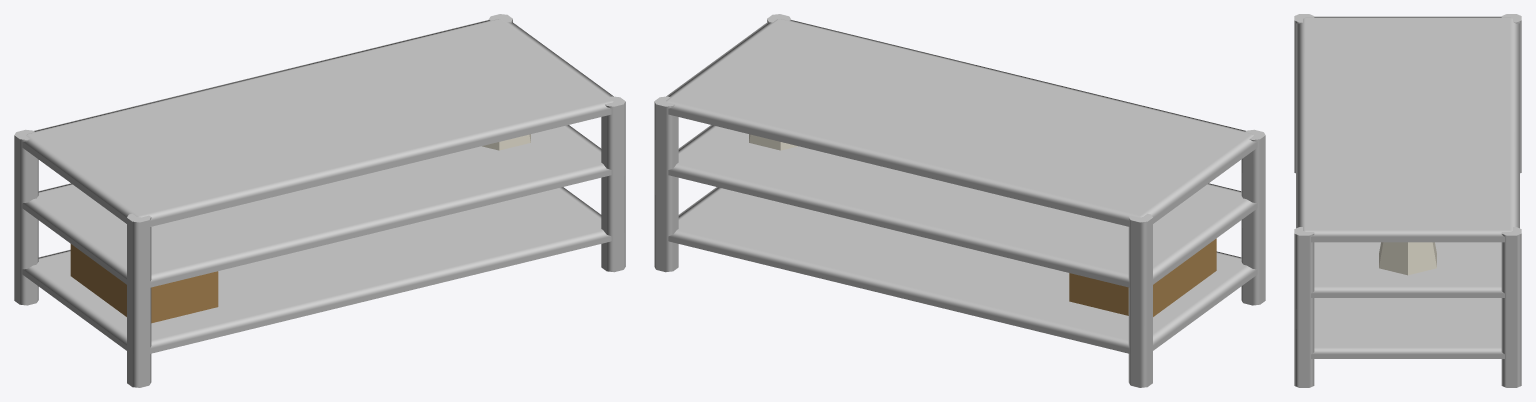
The model's file is shelf.obj.
3 renders of one model, left to right at view 1: azimuth 30°, elevation 25°; view 2: azimuth 150°, elevation 25°; view 3: azimuth 270°, elevation 25°, orthographic. The views are drawn at different scales.
Visible parts, largest first — view 1: shelf_board_3, shelf_board_2, shelf_board_1, stored_cloth_unchanged, upright_1, upright_3, upright_2; view 2: shelf_board_3, shelf_board_2, shelf_board_1, upright_2, upright_4, stored_cloth_unchanged, upright_1; view 3: shelf_board_3, shelf_board_1, shelf_board_2, upright_3, upright_4, stored_jar_unchanged, upright_1, upright_2.
Boxes of the visible parts, x1,y1,x2,y2 form: shelf_board_3: (22, 19, 613, 226); shelf_board_2: (22, 125, 611, 287); shelf_board_1: (22, 187, 611, 353); stored_cloth_unchanged: (70, 244, 218, 323); upright_1: (127, 213, 151, 387); upright_3: (601, 96, 625, 272); upright_2: (14, 129, 38, 305); shelf_board_3: (666, 19, 1257, 226); shelf_board_2: (668, 125, 1257, 287); shelf_board_1: (668, 187, 1257, 353); upright_2: (1128, 213, 1152, 387); upright_4: (654, 96, 678, 272); stored_cloth_unchanged: (1069, 238, 1216, 316); upright_1: (1241, 129, 1265, 305); shelf_board_3: (1296, 16, 1519, 242); shelf_board_1: (1311, 298, 1504, 358); shelf_board_2: (1311, 242, 1504, 297); upright_3: (1294, 227, 1314, 387); upright_4: (1501, 227, 1521, 387); stored_jar_unchanged: (1379, 242, 1436, 275); upright_1: (1294, 14, 1314, 173); upright_2: (1501, 14, 1521, 173).
Size of the model in its own units: 1.87 by 0.603 by 0.812.
